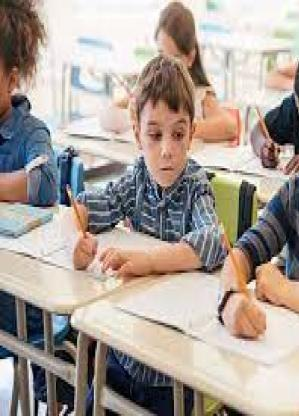cheating: (66, 54, 237, 286)
